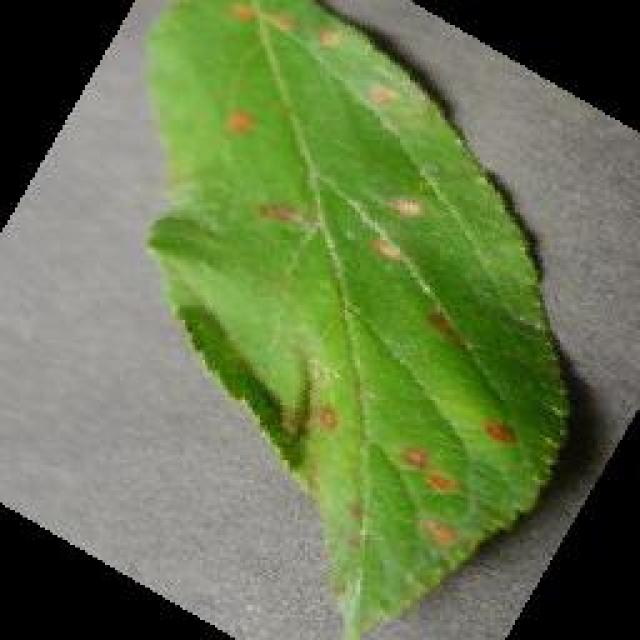apple healthy: (140, 0, 575, 638)
